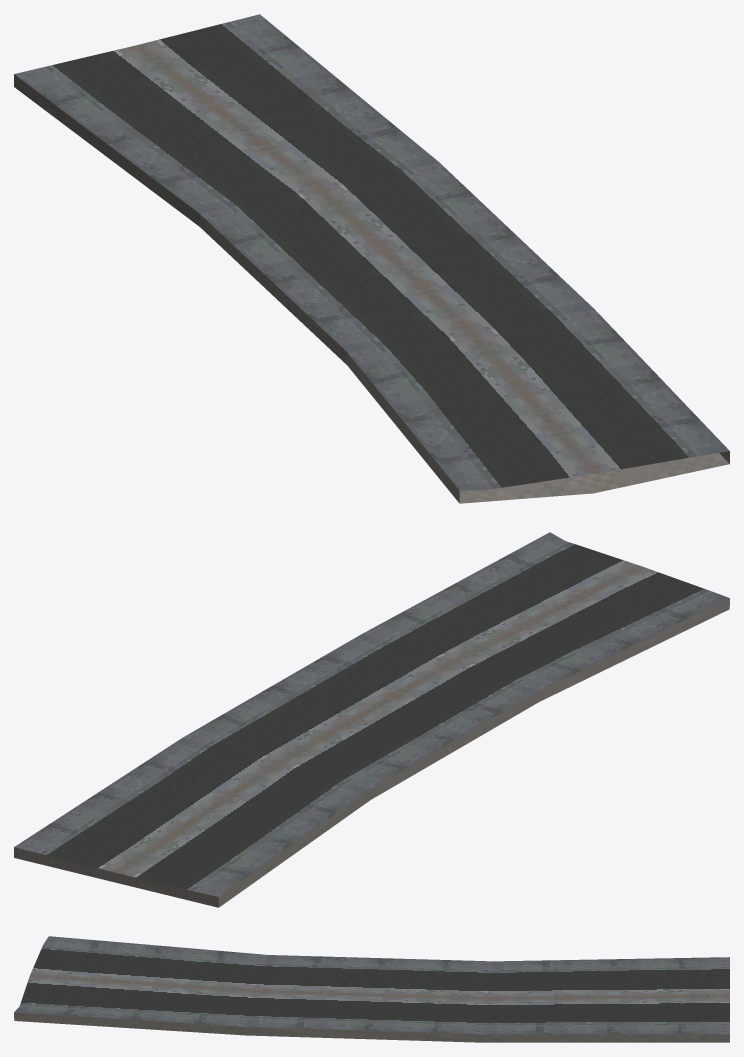
The model's file is lodgsfreeway7_lan.obj.
3 renders of one model, top to bottom at view 1: azimuth 30°, elevation 25°; view 2: azimuth 150°, elevation 25°; view 3: azimuth 270°, elevation 25°, orthographic. The views are drawn at different scales.
Parts seen in each view (by area): view 1: LODGSFreeway7_LAn; view 2: LODGSFreeway7_LAn; view 3: LODGSFreeway7_LAn.
Boxes of the visible parts, <box> form: LODGSFreeway7_LAn: <box>14,14,729,503</box>; LODGSFreeway7_LAn: <box>14,532,729,907</box>; LODGSFreeway7_LAn: <box>14,936,729,1042</box>.
Bounding box in the file's own units: 49.28 × 4.45 × 144.
2 materials, 2 textured.
